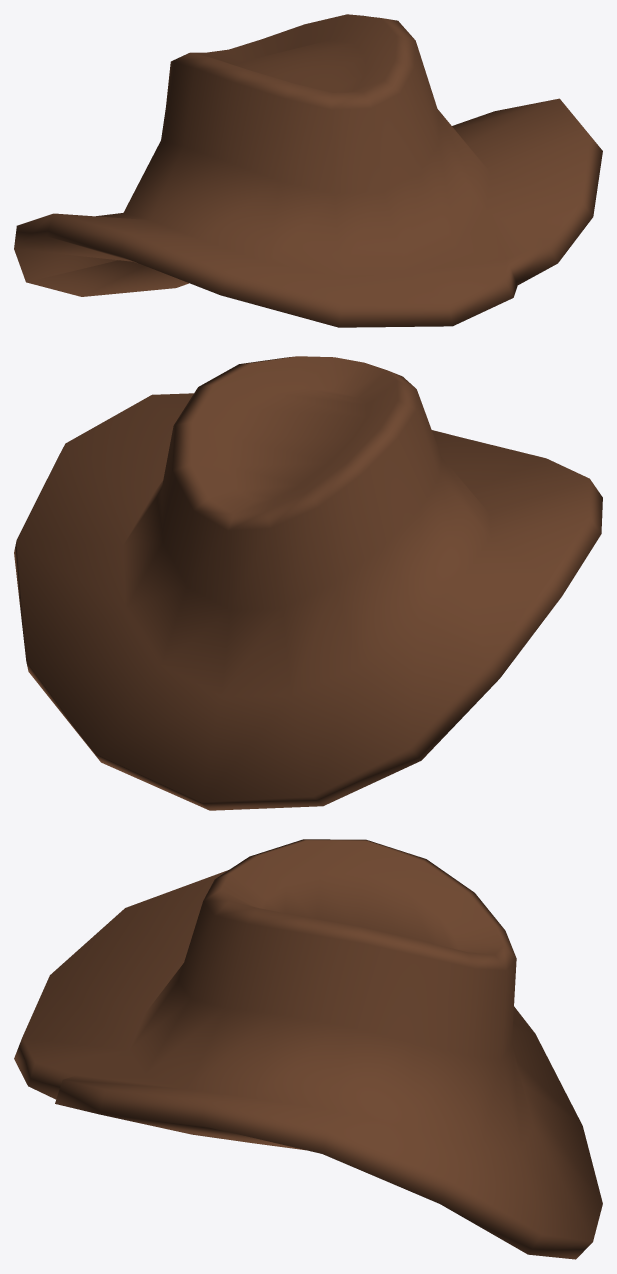
The model's file is cowboyhat.glb.
The picture shows the model from 3 angles, top to bottom: view 1: azimuth 30°, elevation 25°; view 2: azimuth 150°, elevation 25°; view 3: azimuth 270°, elevation 25°; orthographic projection. The views are drawn at different scales.
Visible parts, largest first — view 1: JA_m_Hat13; view 2: JA_m_Hat13; view 3: JA_m_Hat13.
Part boxes in pixels (bbox=[...]): JA_m_Hat13: bbox=[14, 14, 602, 327]; JA_m_Hat13: bbox=[14, 356, 602, 810]; JA_m_Hat13: bbox=[14, 839, 602, 1259].
Bounding box in the file's own units: 1.88 × 1.14 × 1.75.
